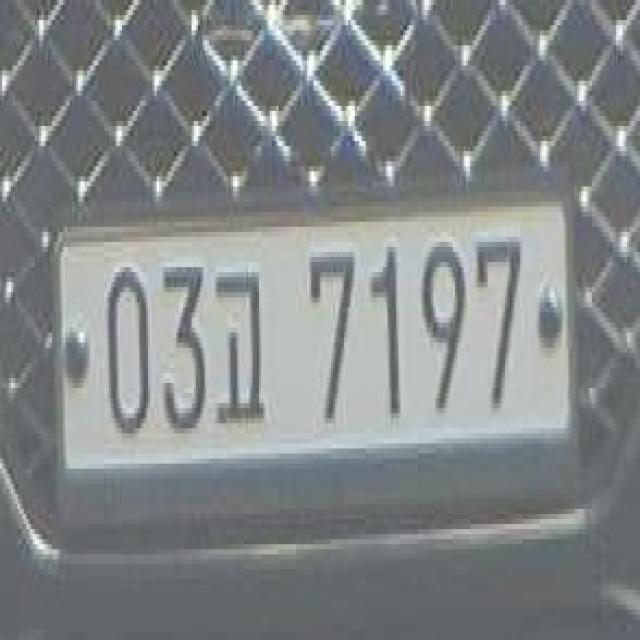0: (106, 258, 154, 448)
1: (371, 238, 412, 423)
3: (160, 240, 208, 453)
7: (471, 227, 530, 422), (308, 243, 362, 440)
9: (421, 231, 467, 431)
go: (213, 254, 268, 453)
license_plate: (46, 178, 590, 502)
